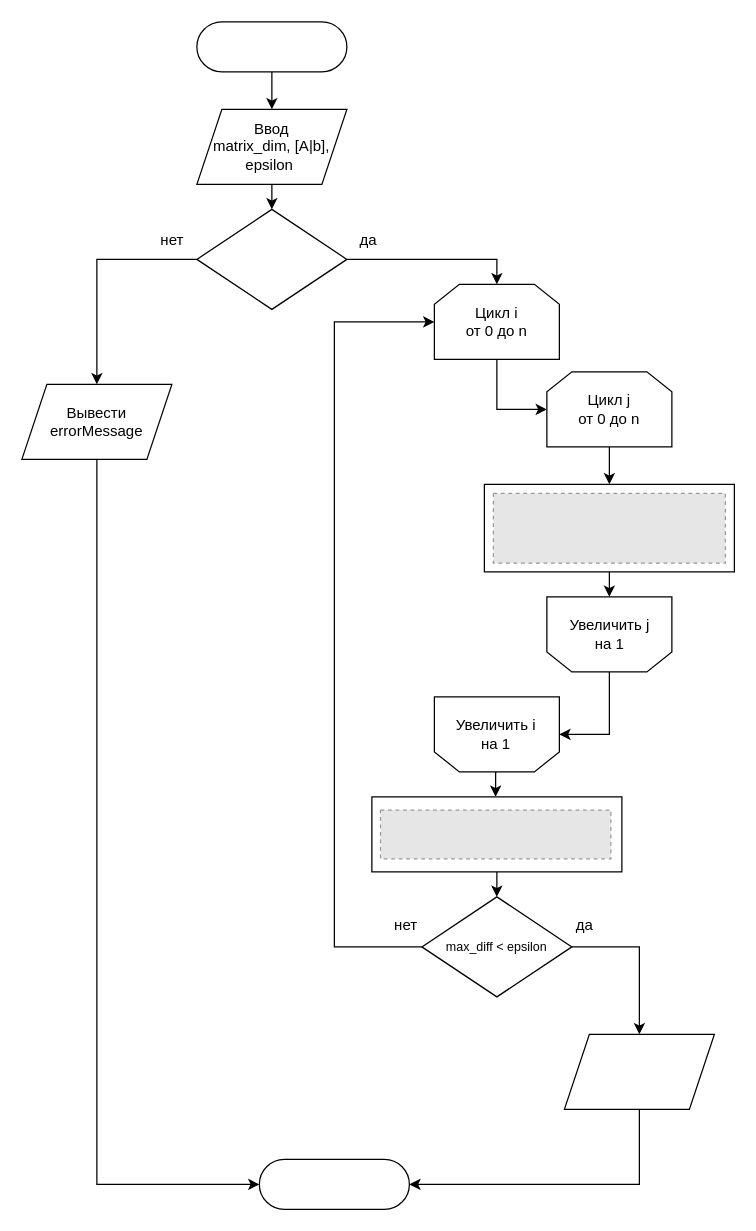
The diagram is 756 pixels wide and 1231 high, and some of its shapes have lost their labels. Grey dashed boxes stand in for pictures. Each missing label, with the box of its shape:
A приводится к диагональному виду?: (196, 208, 347, 309)
Вывести xi: (563, 1033, 714, 1109)
Конец: (258, 1158, 409, 1209)
Начало: (196, 21, 347, 72)
